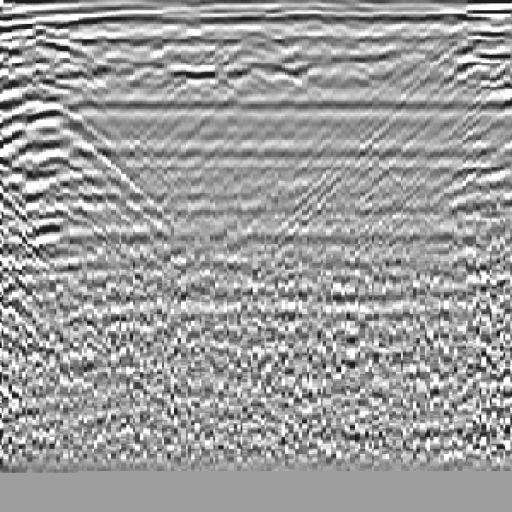metalic: (1, 49, 177, 308)
